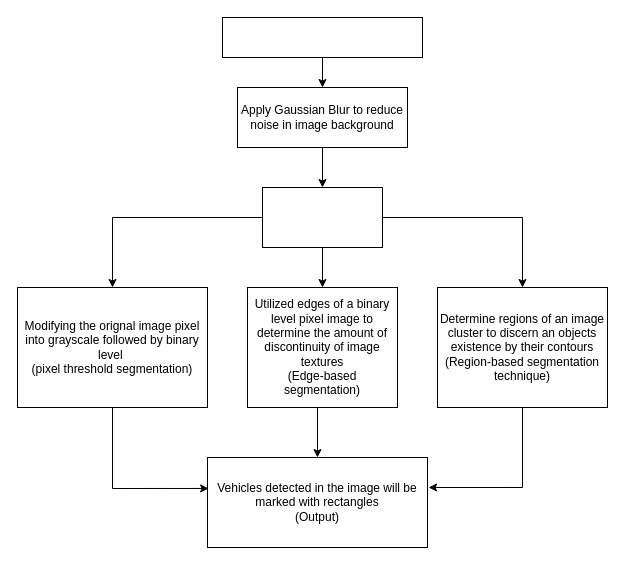
This 625x565 diagram has some shape labels left out. Here are the shapes that lost their labels. From the top down, the centre of each, then its label:
point (322, 37): Image Input From a sample of photo
point (322, 217): Decide Upon a suitable thresholding methodoly to segment the image
